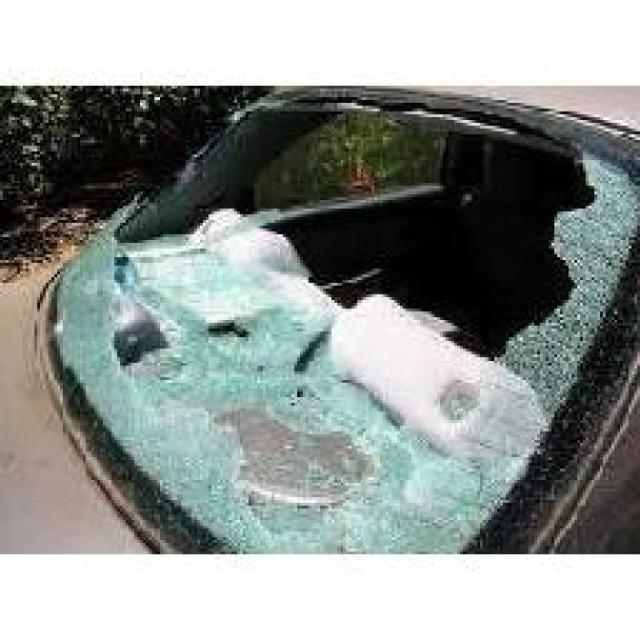glass_shatter_severe: (54, 91, 591, 534)
